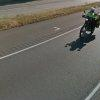Motorcycle: (72, 4, 100, 46)
